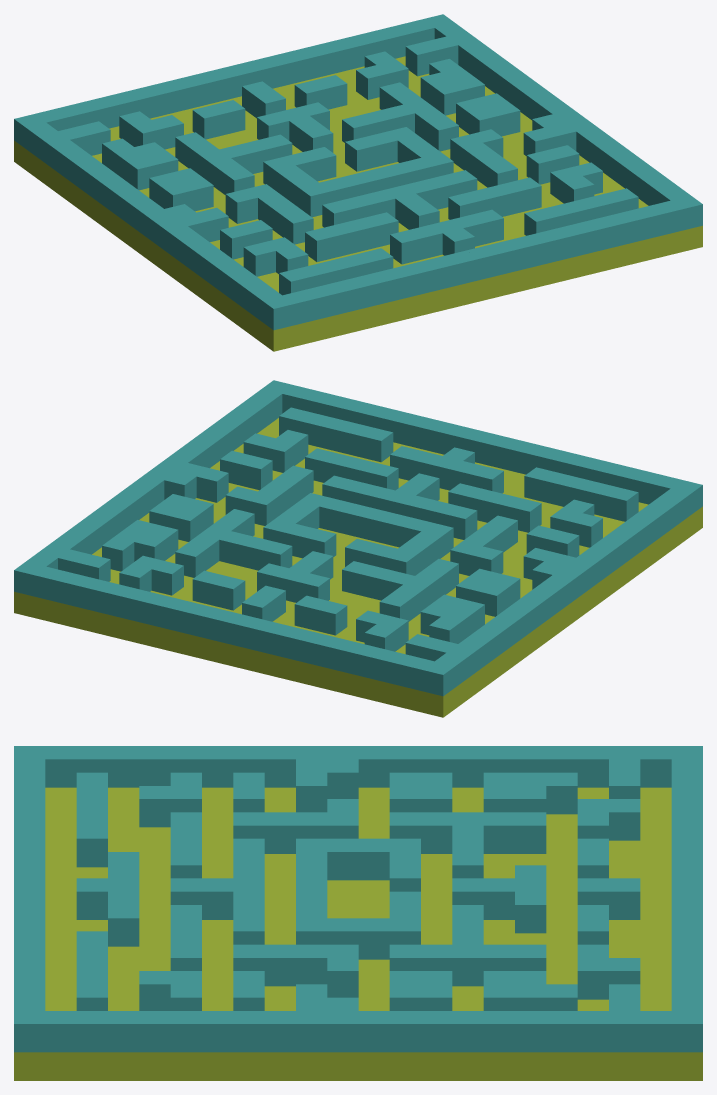
The model's file is maze_gotchu.fbx.
3 renders of one model, top to bottom at view 1: azimuth 30°, elevation 25°; view 2: azimuth 150°, elevation 25°; view 3: azimuth 270°, elevation 25°, orthographic. The views are drawn at different scales.
Visible parts, largest first — view 1: Cube, Cube.022, Cube.007, Cube.001, Cube.017, Cube.019, Cube.004, Cube.018, Cube.025, Cube.030, Cube.012, Cube.026 (+18 smaller); view 2: Cube, Cube.022, Cube.007, Cube.001, Cube.017, Cube.019, Cube.004, Cube.012, Cube.026, Cube.018, Cube.011, Cube.002 (+18 smaller); view 3: Cube, Cube.007, Cube.022, Cube.001, Cube.019, Cube.004, Cube.017, Cube.011, Cube.002, Cube.018, Cube.025, Cube.020 (+18 smaller).
Boxes of the visible parts, box(x1,y1,x2,y2) form: Cube: box(14, 56, 702, 351); Cube.022: box(14, 69, 498, 330); Cube.007: box(219, 14, 702, 280); Cube.001: box(263, 127, 453, 217); Cube.017: box(322, 170, 477, 229); Cube.019: box(175, 132, 292, 194); Cube.004: box(342, 82, 458, 151); Cube.018: box(390, 209, 503, 264); Cube.025: box(225, 184, 313, 244); Cube.030: box(305, 212, 398, 261); Cube.012: box(524, 188, 638, 235); Cube.026: box(279, 248, 393, 295); Cube: box(14, 418, 702, 717); Cube.022: box(218, 435, 702, 696); Cube.007: box(14, 380, 497, 646); Cube.001: box(263, 493, 453, 575); Cube.017: box(322, 473, 477, 539); Cube.019: box(342, 559, 458, 621); Cube.004: box(175, 509, 292, 577); Cube.012: box(279, 407, 393, 462); Cube.026: box(524, 467, 638, 521); Cube.018: box(390, 446, 503, 493); Cube.011: box(225, 465, 313, 525); Cube.002: box(257, 551, 333, 602); Cube: box(14, 787, 702, 1080); Cube.007: box(14, 878, 702, 1052); Cube.022: box(14, 746, 702, 878); Cube.001: box(296, 838, 420, 959); Cube.019: box(389, 812, 546, 878); Cube.004: box(389, 905, 546, 986); Cube.017: box(170, 838, 264, 944); Cube.011: box(233, 944, 358, 997); Cube.002: box(452, 865, 546, 933); Cube.018: box(76, 852, 139, 946); Cube.025: box(233, 799, 358, 853); Cube.020: box(483, 772, 577, 814).
Bounding box in the file's own units: 4200 × 400 × 4400.
